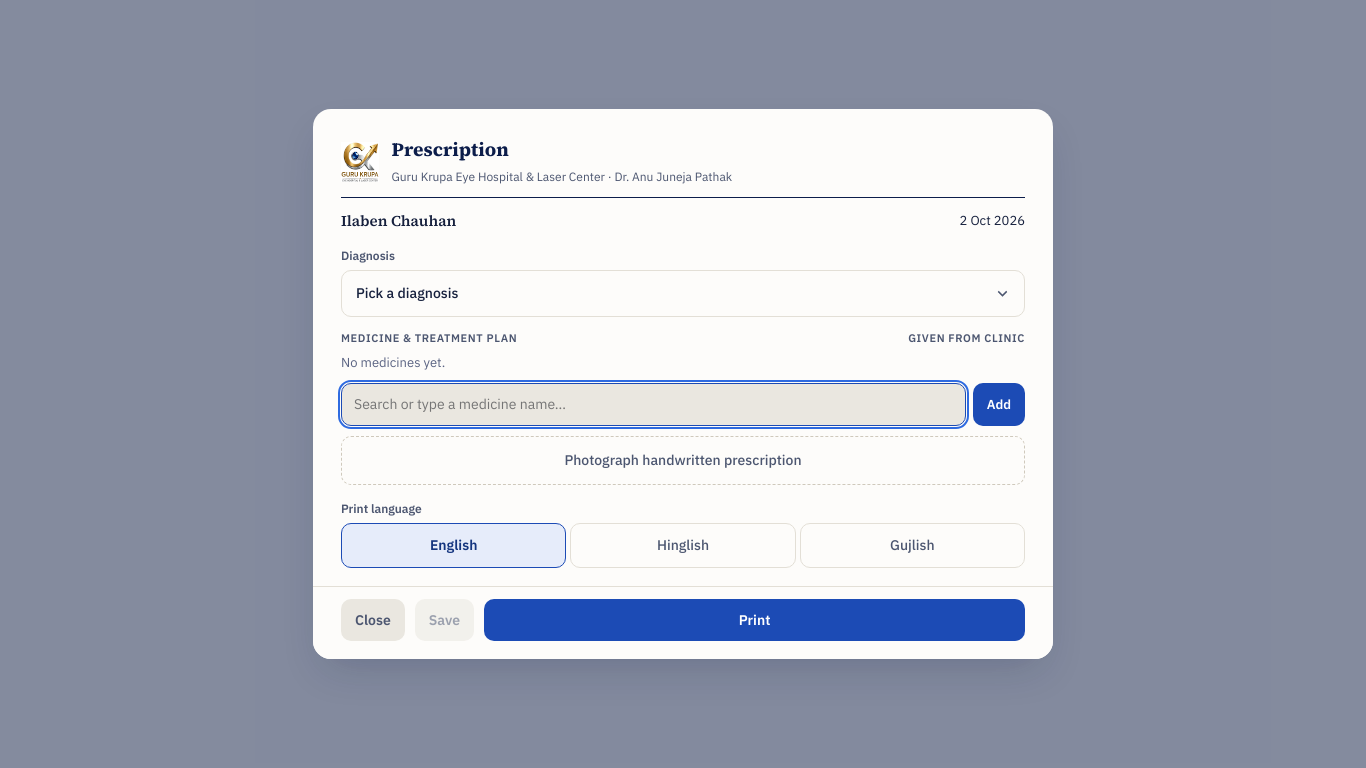
Test: Medicine picker & brand/composition (F12) › typing part of a name + Enter picks the highlighted suggestion, not the typed text
This screenshot has width=1366, height=768.
In the dropdown labelled "medicine name": (653, 404) [341, 383, 966, 426], type "moxi"
Then press Enter
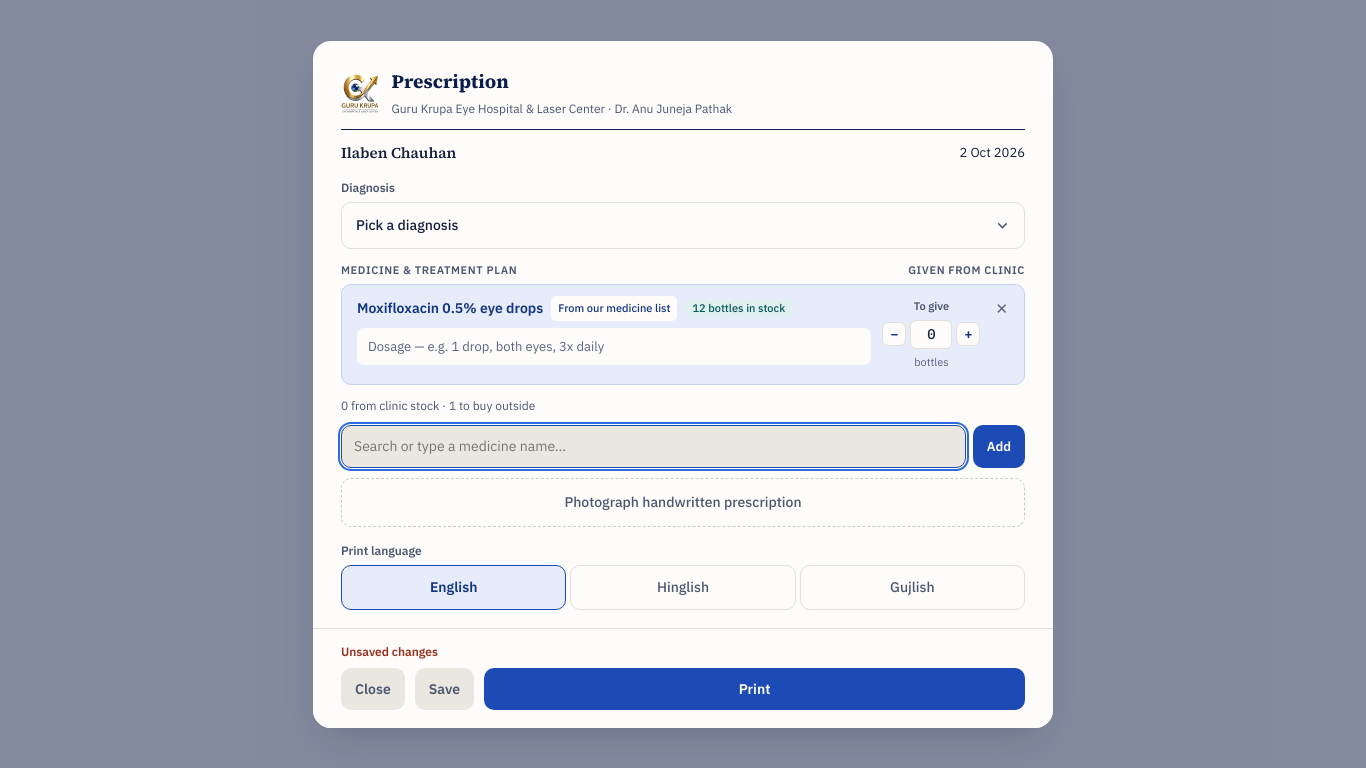
Check: the text "Moxifloxacin 0.5% eye drops" is shown, box [357, 298, 543, 316]
Check: the text "From our medicine list" is shown, box [551, 296, 678, 320]
In the dropdown labelled "medicine name": (653, 446) [341, 424, 966, 468], type "tim"
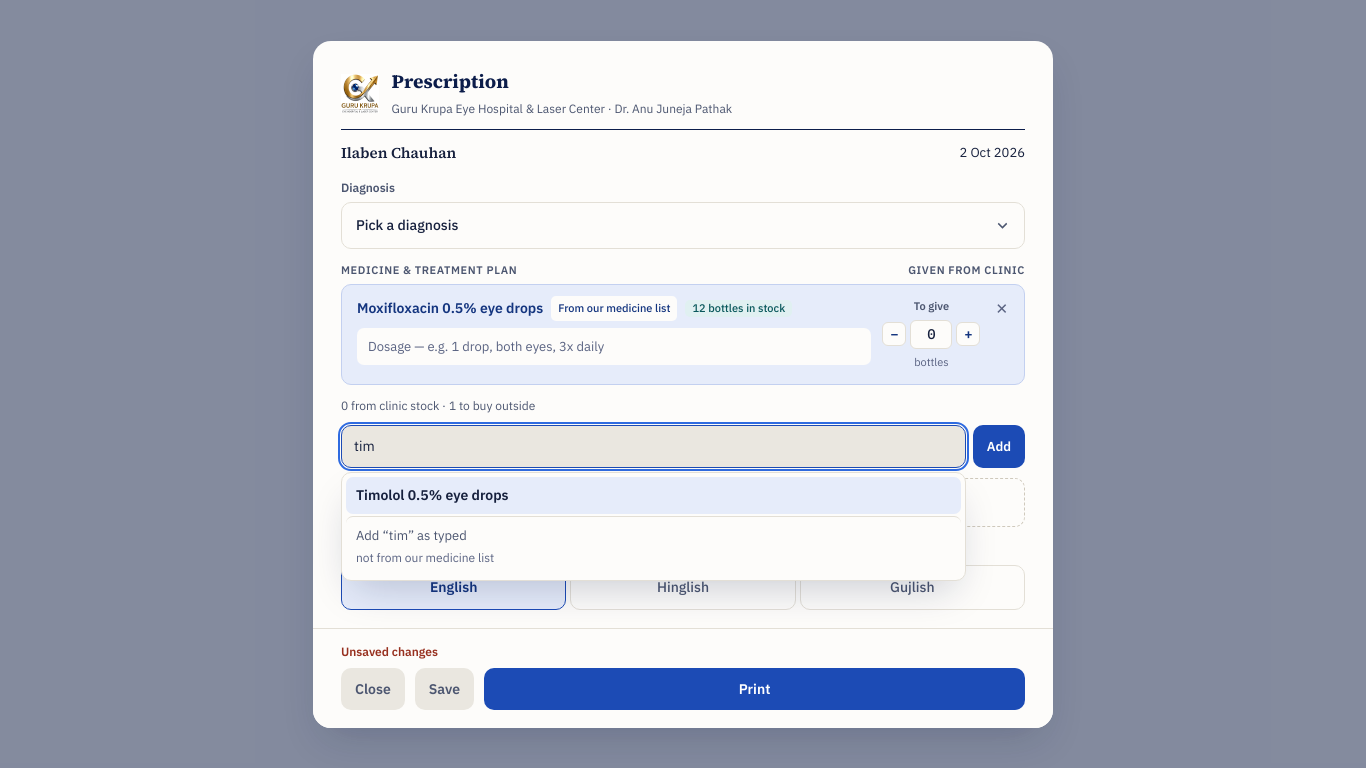
Check: the option with test id "med-option-typed" shows "Add “tim” as typed", box [346, 516, 961, 576]
Press Arrowup
Press Enter
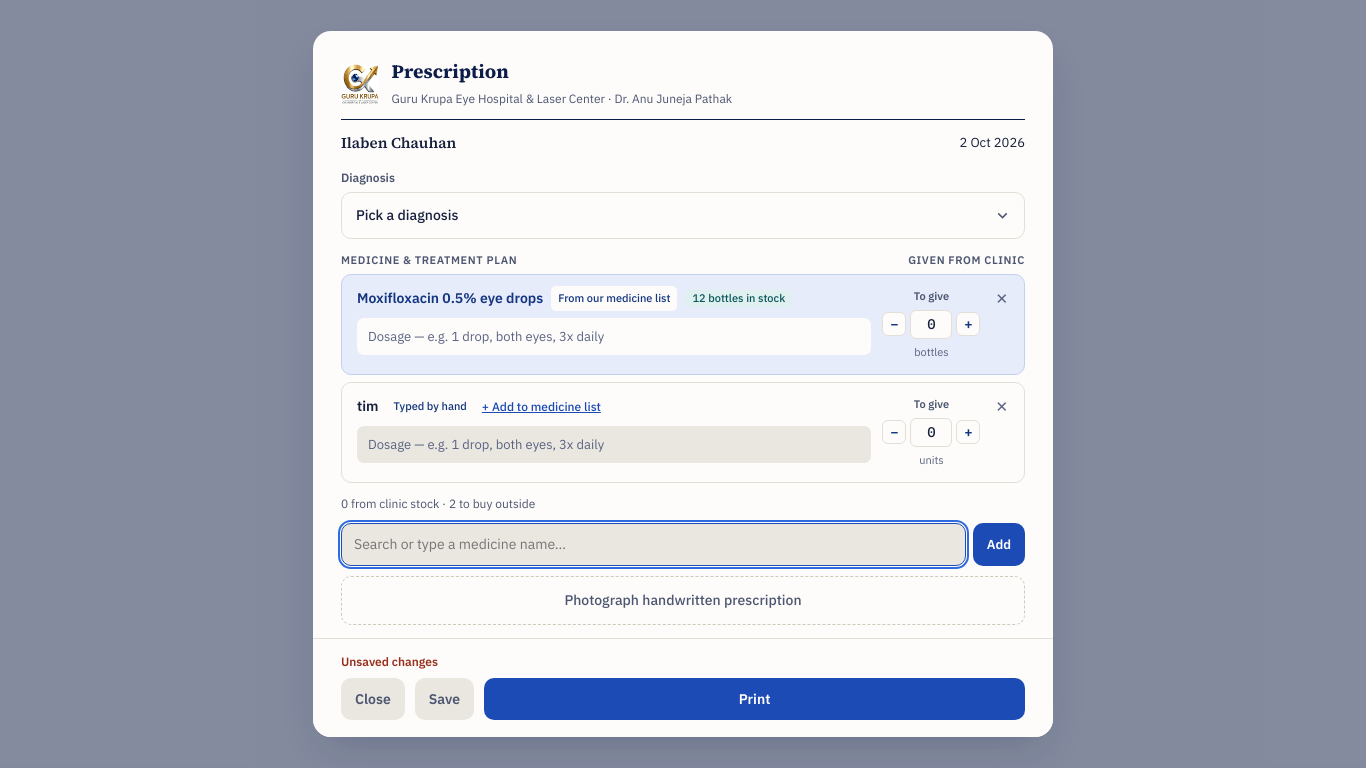
Check: the text "tim" is shown, box [357, 397, 378, 415]
Check: the text "Typed by hand" is shown, box [386, 394, 474, 419]
